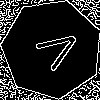V: (27, 24, 84, 77)
